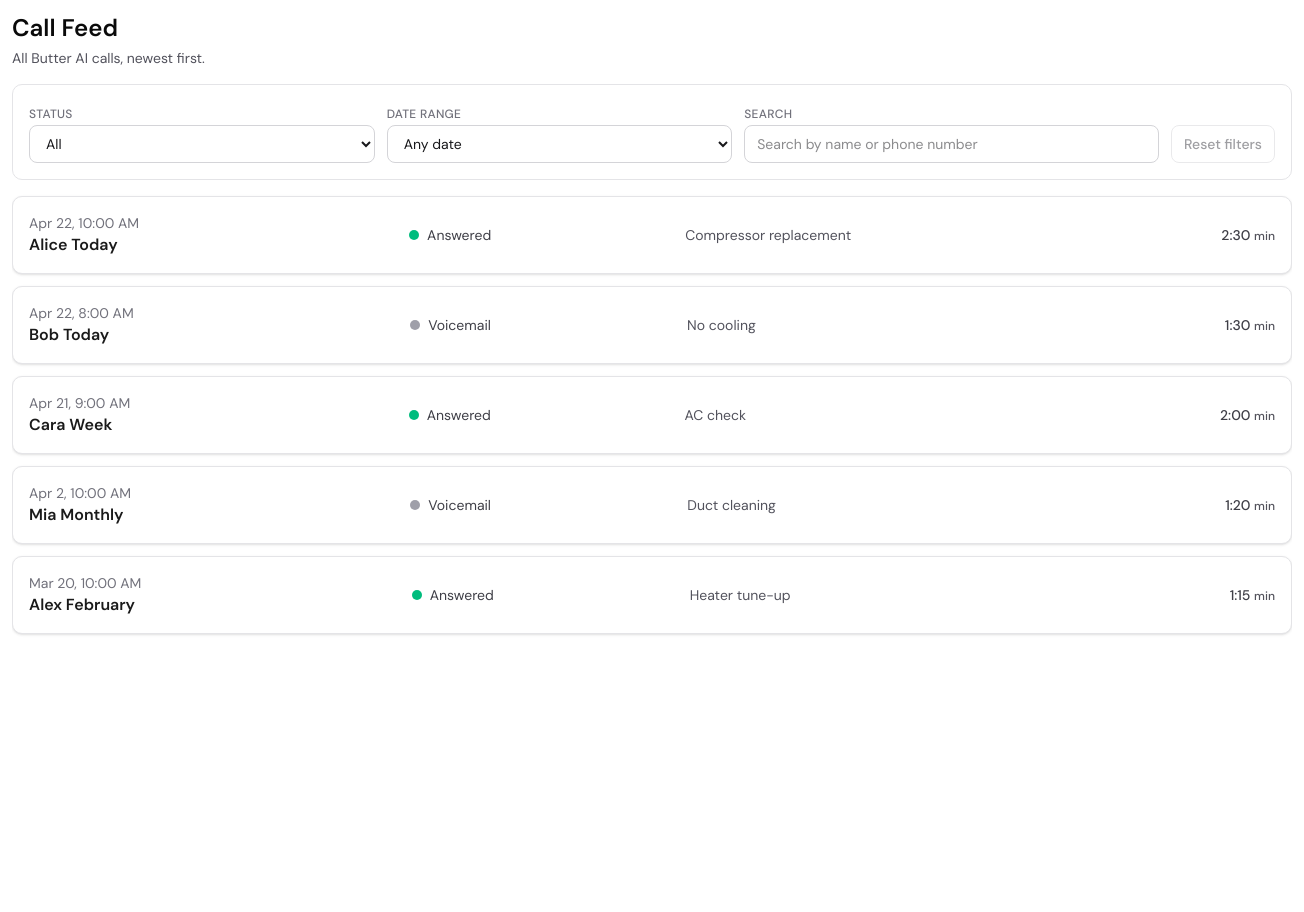
Scenario: CallFeed › filters by preset date ranges
This screenshot has width=1304, height=912.
expect the button with aria-label "Toggle details for Alice Today" is shown: met, box [13, 197, 1291, 273]
Select "Today" in the dropdown labelled "Date range": (559,144) [387, 125, 732, 163]
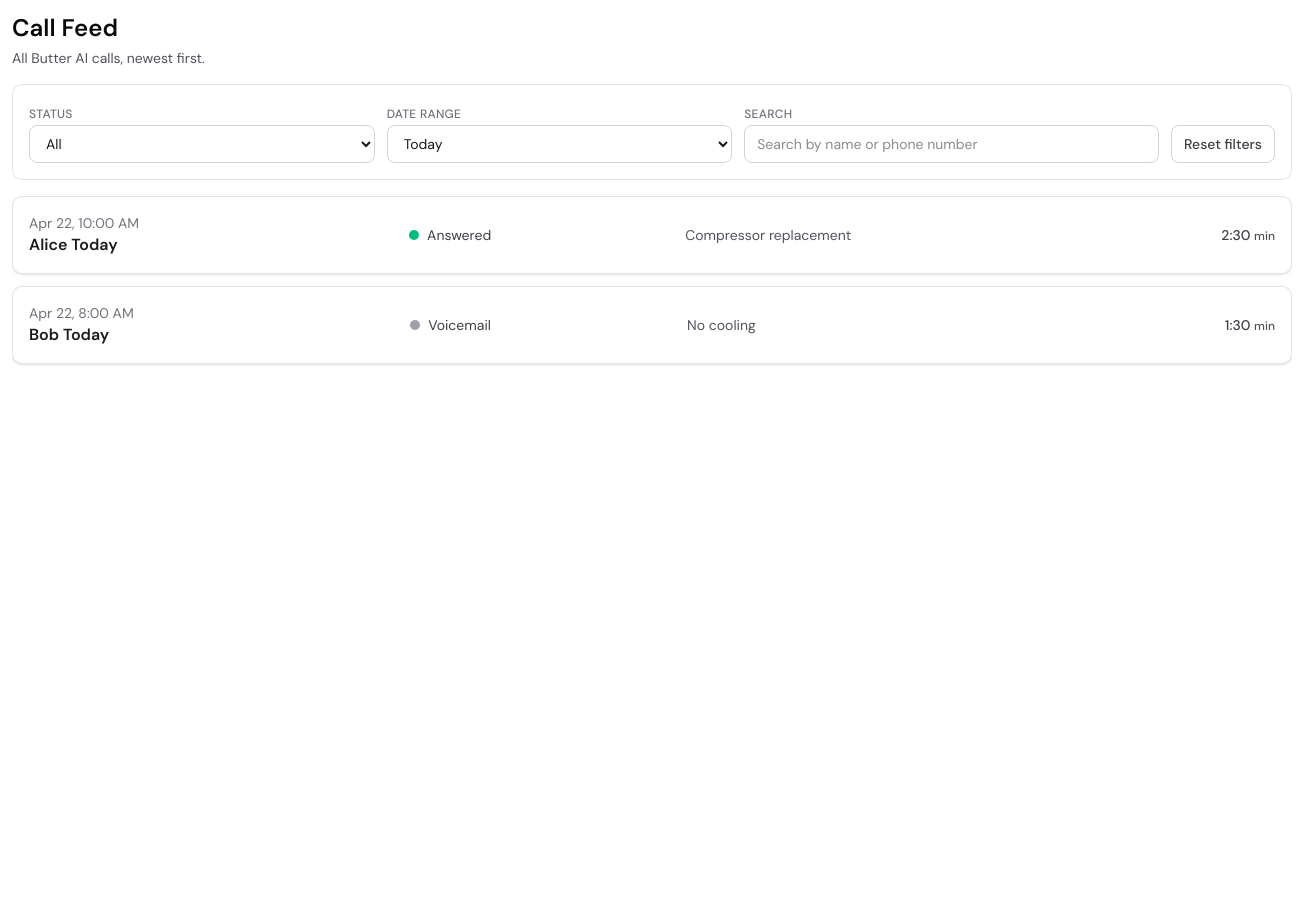
expect the button "Alice Today" is shown: met, box [13, 197, 1291, 273]
expect the button "Cara Week" is gone: met
Select "This Week" in the dropdown labelled "Date range": (559,144) [387, 125, 732, 163]
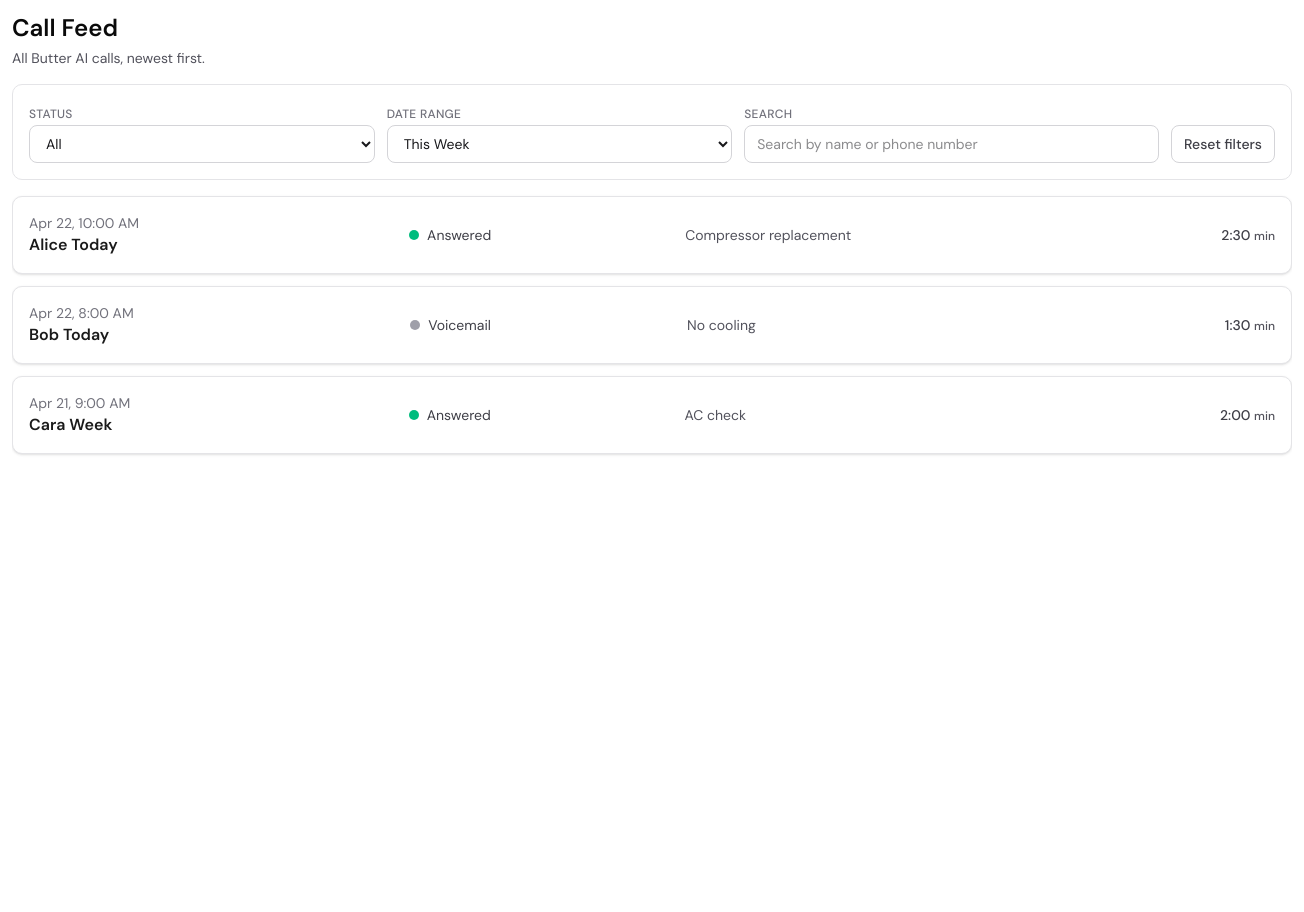
expect the button "Alice Today" is shown: met, box [13, 197, 1291, 273]
expect the button "Apr 21, 9:00 AM Cara Week Answered AC check 2:00 min" is shown: met, box [13, 377, 1291, 453]
Select "This Month" in the dropdown labelled "Date range": (559,144) [387, 125, 732, 163]
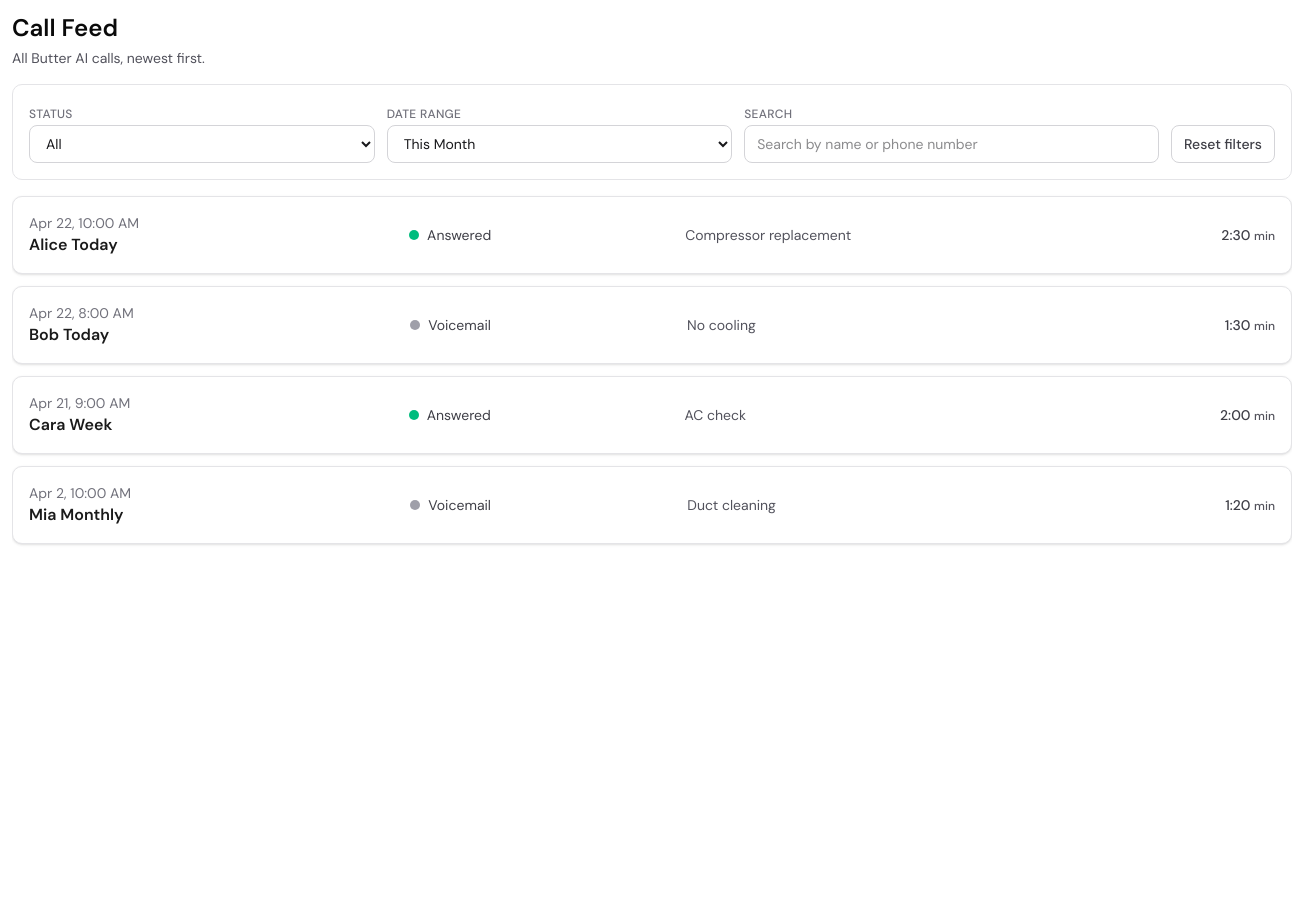
expect the button "Alex February" is not shown: met
expect the button "Apr 2, 10:00 AM Mia Monthly Voicemail Duct cleaning 1:20 min" is shown: met, box [13, 467, 1291, 543]
